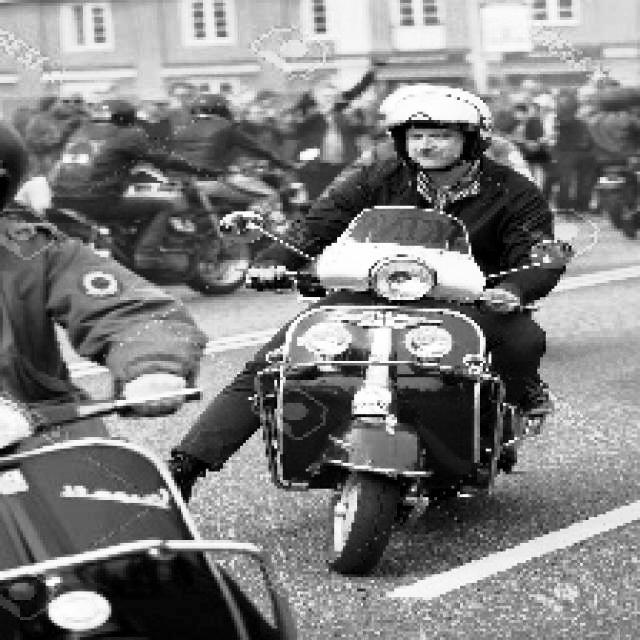Bike: (273, 229, 534, 575)
